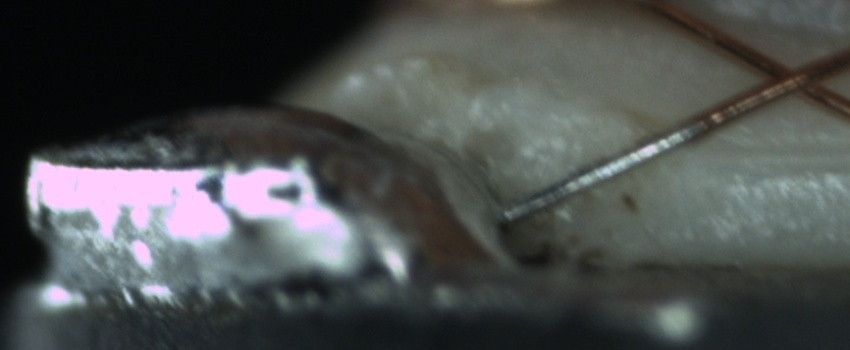CL: (744, 49, 839, 106)
DL: (716, 124, 849, 180)
TS: (502, 119, 708, 224)
